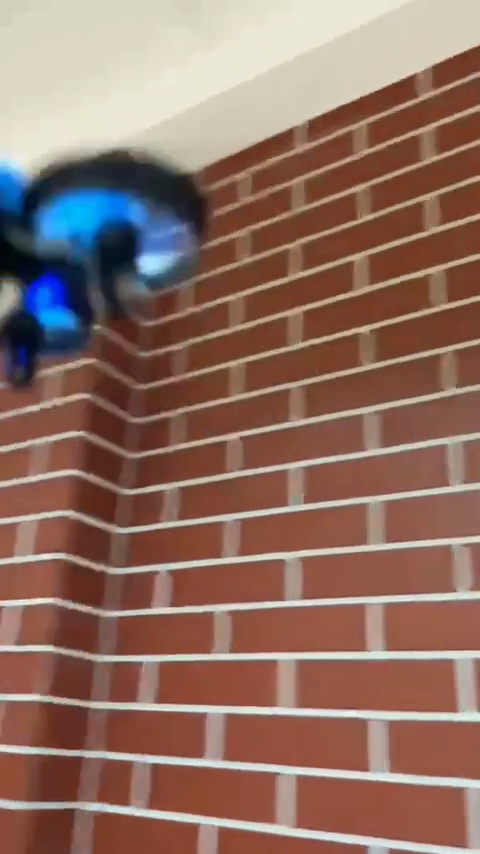drone: (0, 138, 209, 398)
